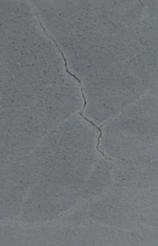fissura: (35, 12, 141, 165)
